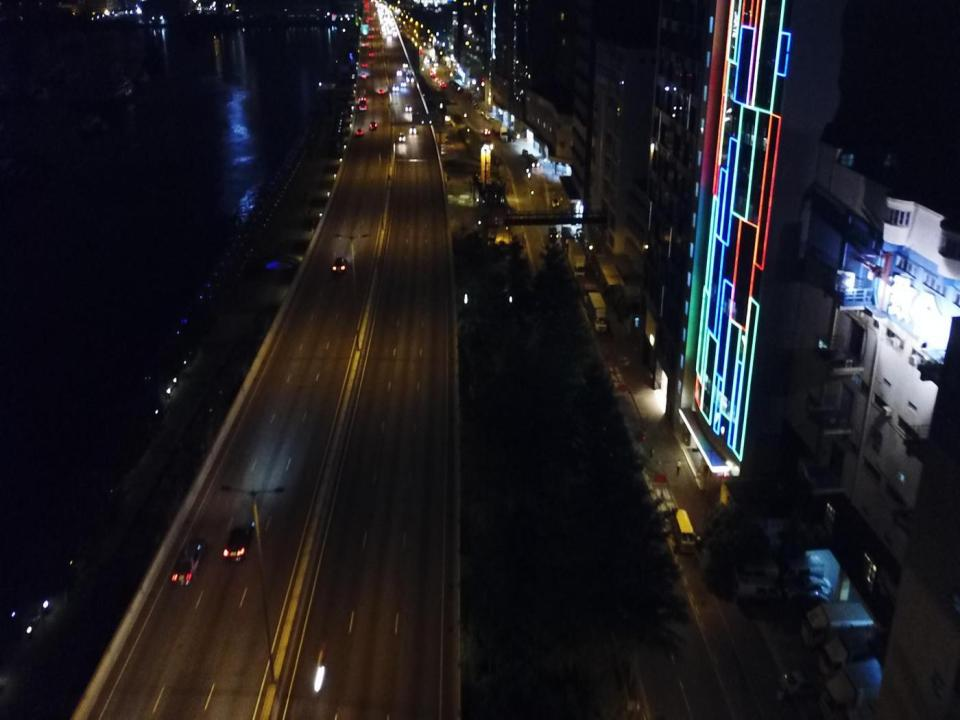bus: (357, 88, 367, 110)
car: (169, 538, 205, 586), (222, 521, 255, 564), (332, 257, 348, 274), (369, 120, 377, 130), (398, 132, 406, 142), (406, 74, 413, 81), (484, 128, 491, 135), (356, 129, 364, 135), (410, 127, 416, 134), (406, 104, 412, 111), (392, 84, 398, 91), (362, 41, 368, 48), (400, 81, 406, 87), (397, 70, 402, 76), (369, 52, 374, 58), (379, 89, 384, 94), (403, 63, 408, 68), (362, 73, 366, 78), (363, 63, 367, 67)
truck: (587, 292, 607, 332), (567, 240, 586, 280), (578, 277, 598, 305), (562, 226, 575, 248), (500, 126, 508, 142), (548, 224, 556, 238), (492, 120, 501, 132)
van: (673, 508, 695, 554)
